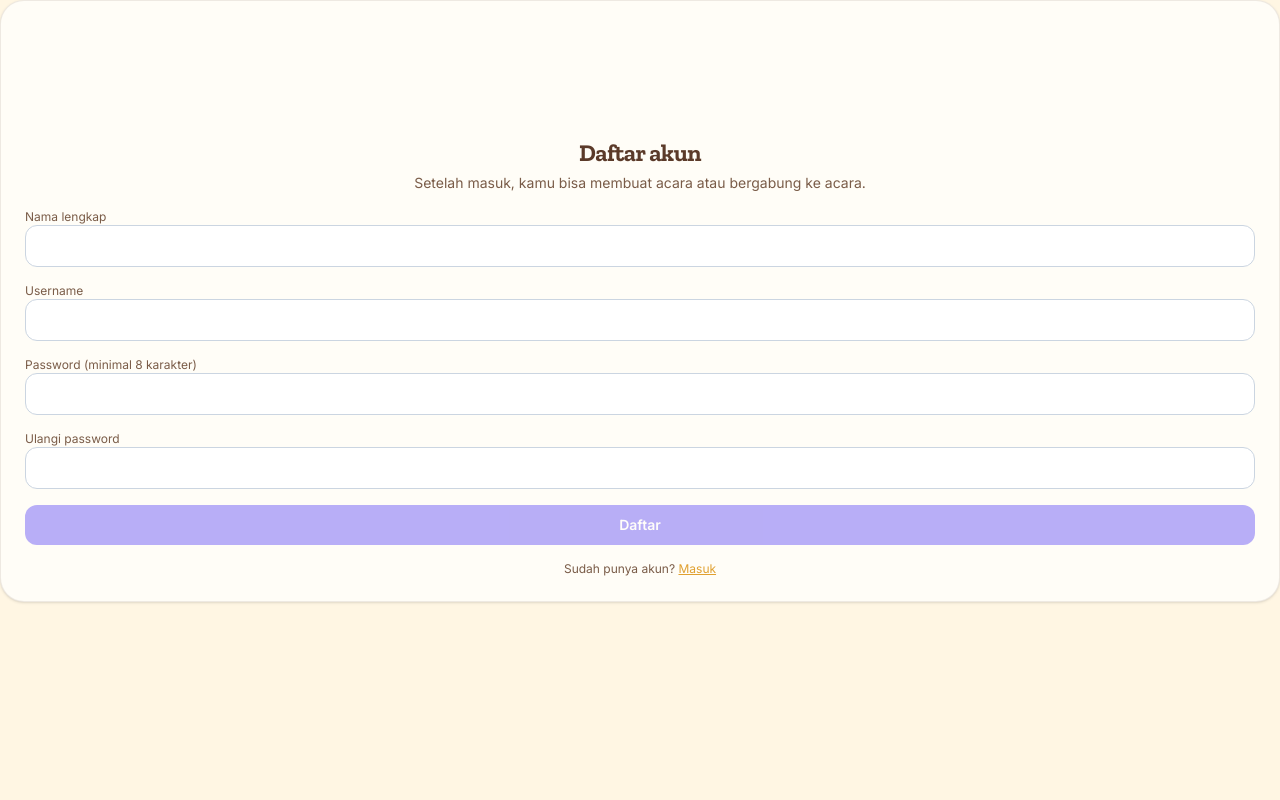
Scenario: DaftarForm › pendaftaran berhasil menampilkan kode pemulihan sekali, dengan tombol salin
Type "Uji" into the field labelled "Nama lengkap" at (640, 246), box [25,225,1255,267]
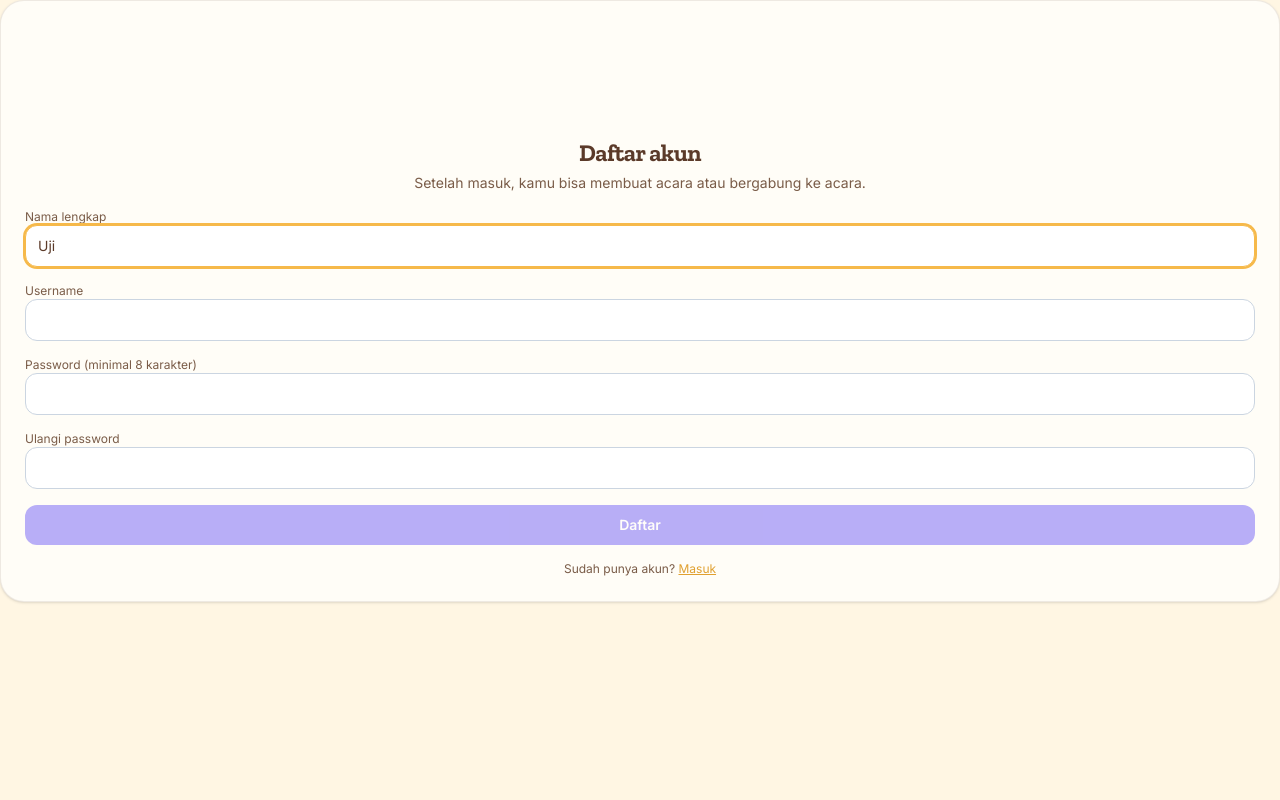
Type "uji_user" into the field labelled "Username" at (640, 320), box [25,299,1255,341]
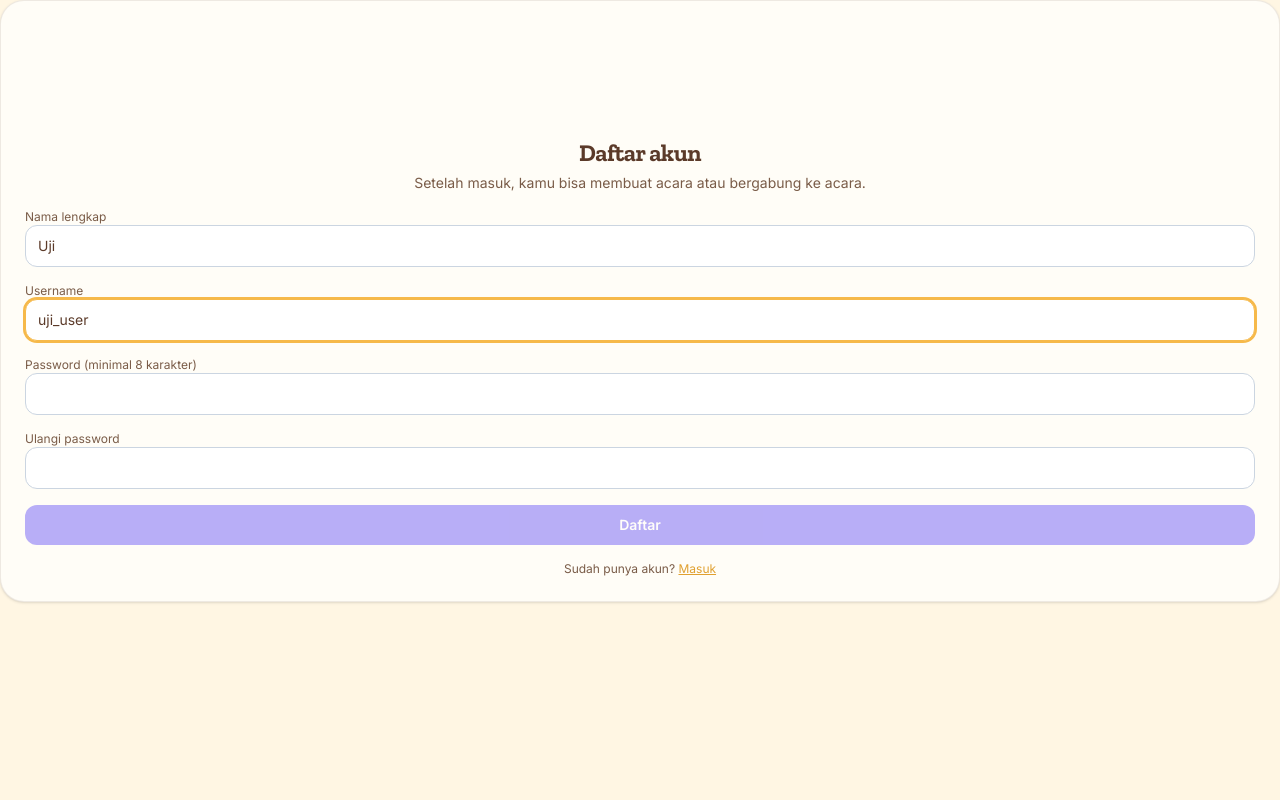
Type "sandi-uji-2031" into the password field labelled "Password (minimal 8 karakter)" at (640, 394), box [25,373,1255,415]
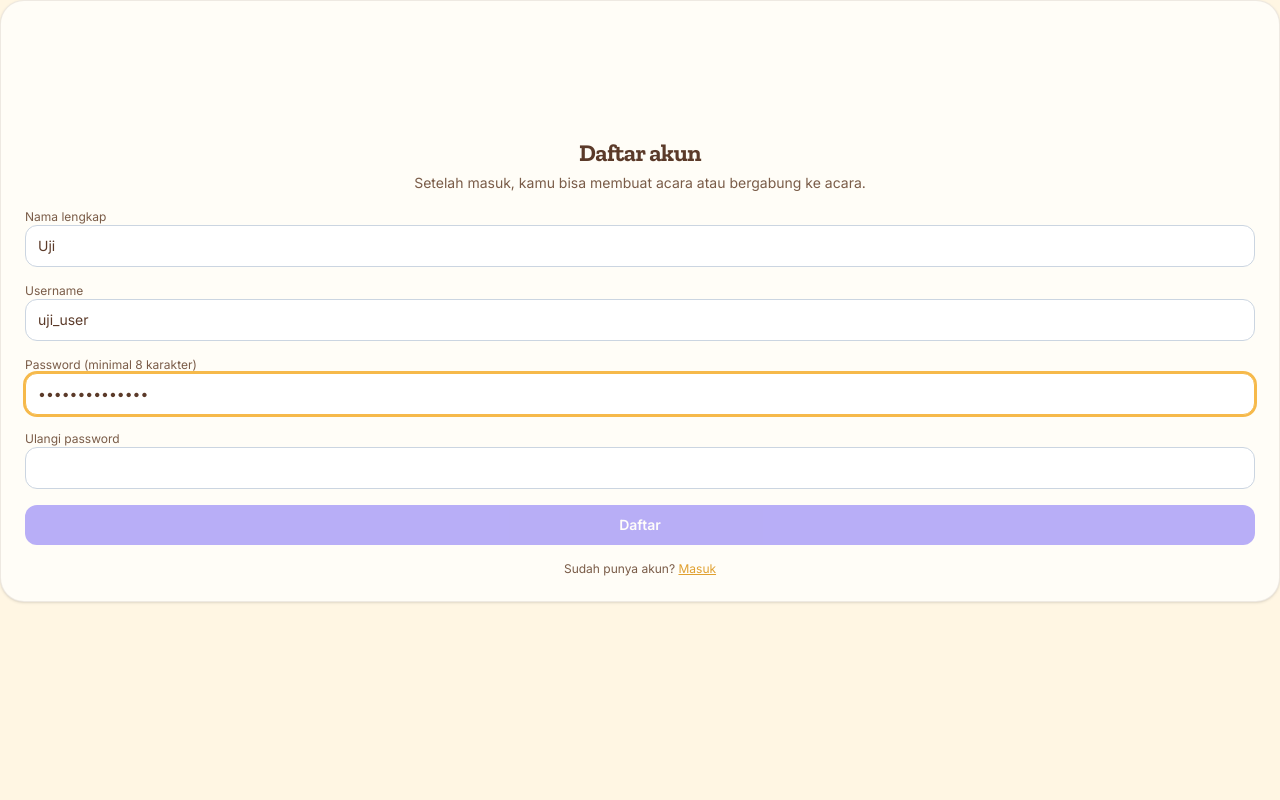
Type "sandi-uji-2031" into the password field labelled "Ulangi password" at (640, 468), box [25,447,1255,489]
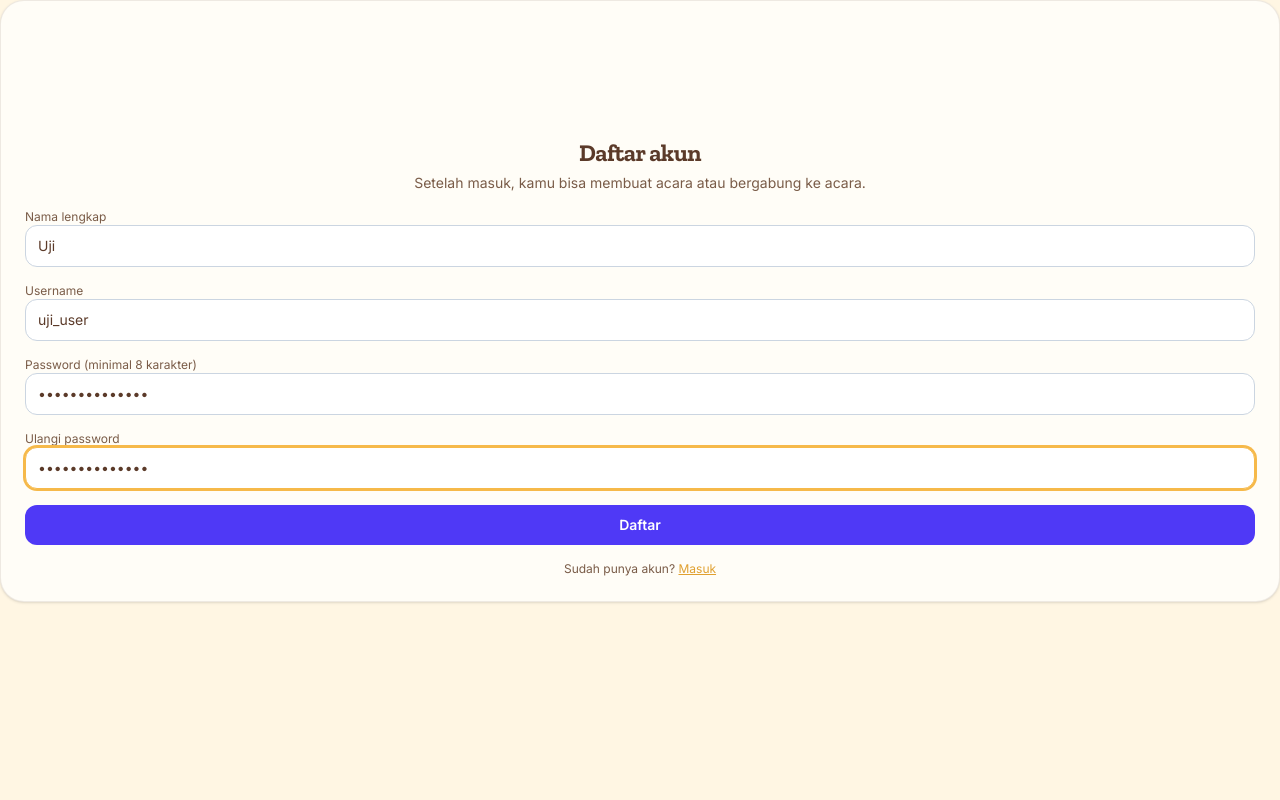
Click the button "Daftar" at (640, 525), box [25,505,1255,545]
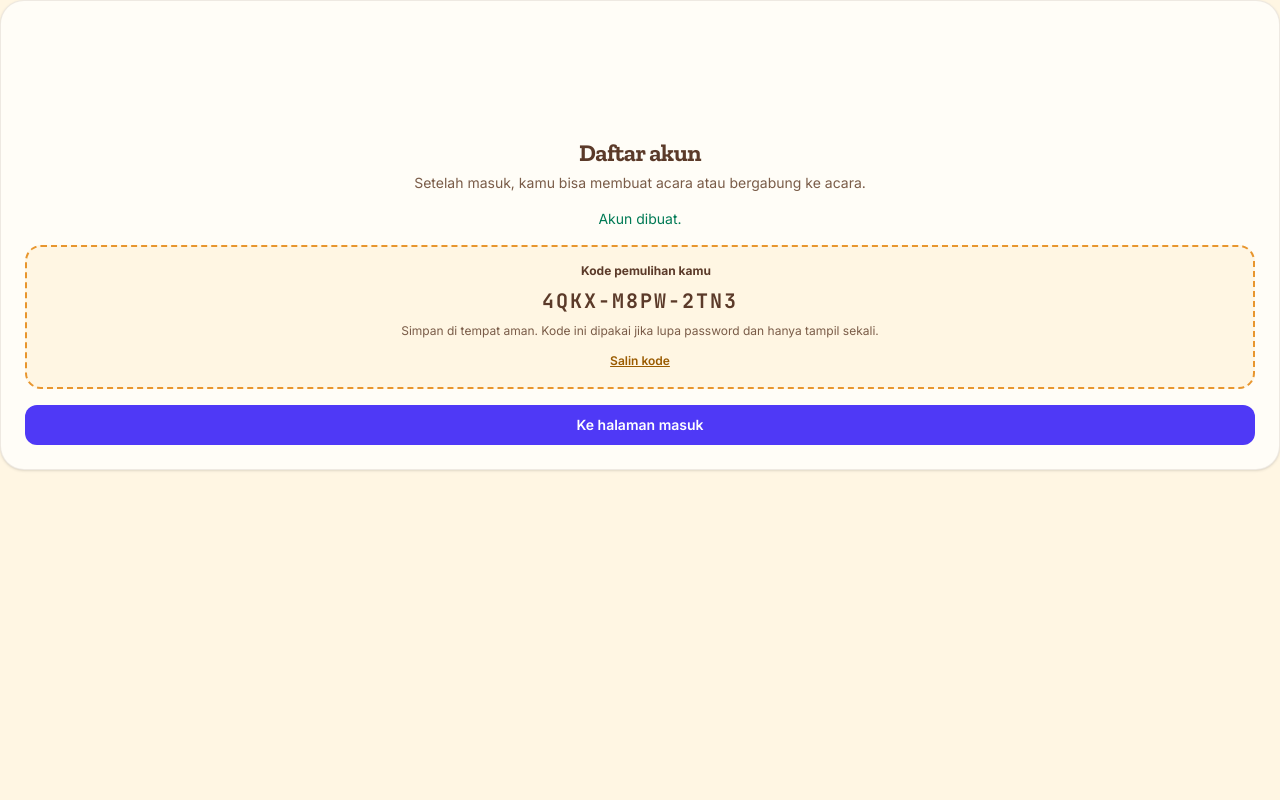
Expected: the text "4QKX-M8PW-2TN3" is shown, [542,288,738,314]
Expected: the button "Salin kode" is shown, [610,353,670,369]
